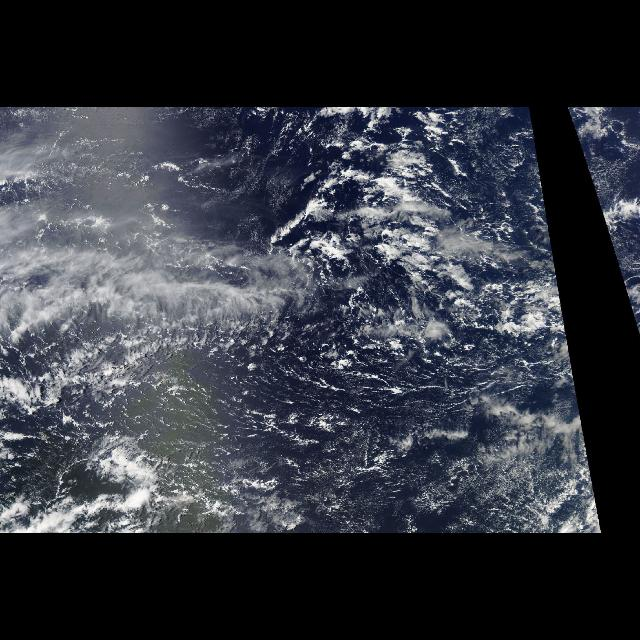Fish: (5, 260, 282, 364)
Gravel: (190, 369, 420, 518)
Sugar: (140, 304, 602, 530)
